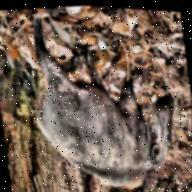boar: (8, 1, 187, 192)
